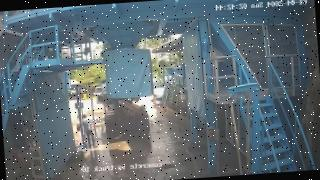cement_mixer_truck: (96, 79, 150, 135)
